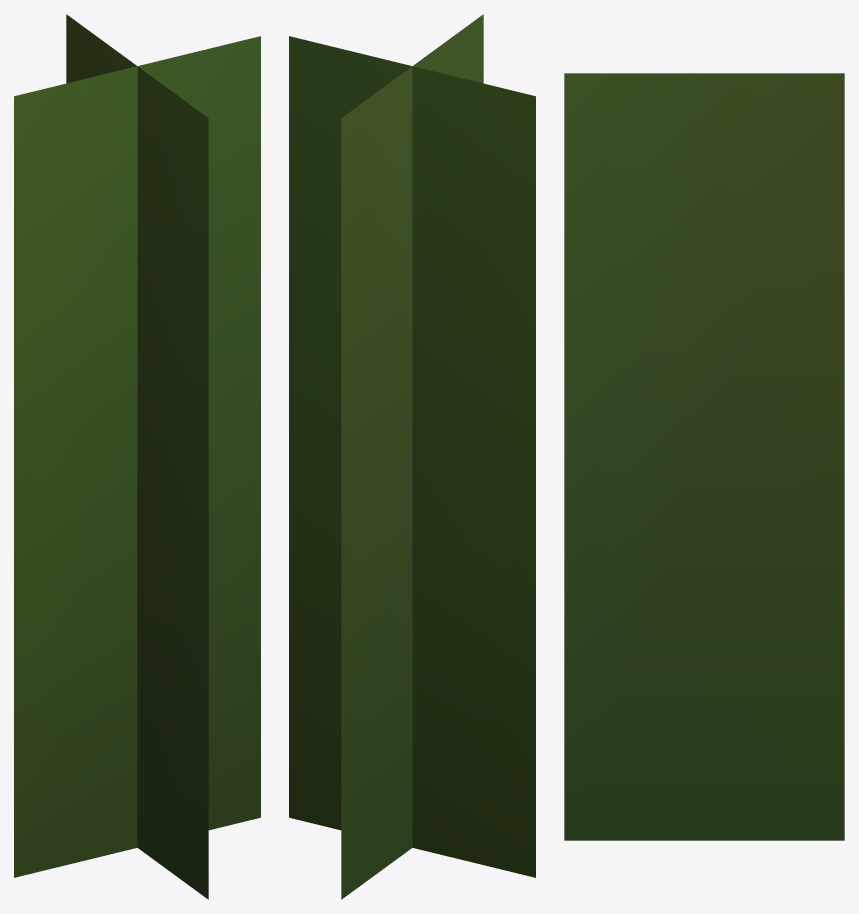
File: groundcover_bk_foret_broceliande_0004.glb
The picture shows the model from 3 angles, left to right: view 1: azimuth 30°, elevation 25°; view 2: azimuth 150°, elevation 25°; view 3: azimuth 270°, elevation 25°; orthographic projection.
Parts seen in each view (by area): view 1: groundcover_bk_004; view 2: groundcover_bk_004; view 3: groundcover_bk_004.
Part boxes in pixels (x1,y1,x2,y2): groundcover_bk_004: (14, 14, 260, 899); groundcover_bk_004: (289, 14, 535, 899); groundcover_bk_004: (564, 73, 844, 840).
Size of the model in its own units: 0.1653 by 0.5 by 0.1653.
